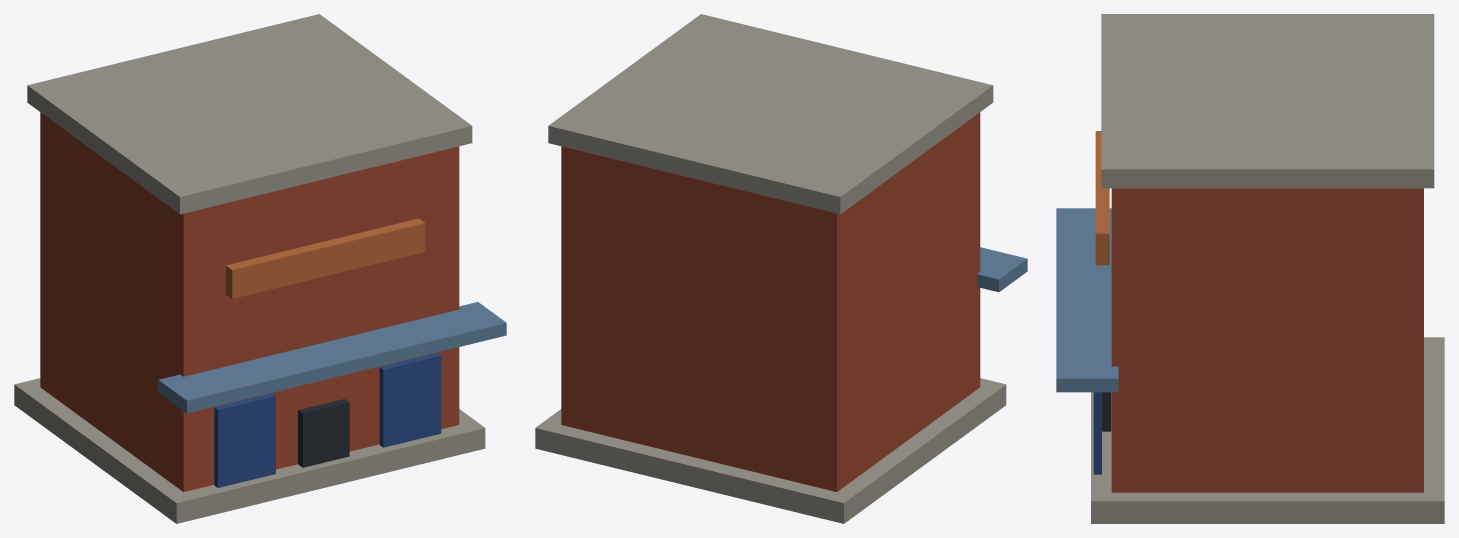
Rendered from bld_commercial_a04_lod1.glb.
3 renders of one model, left to right at view 1: azimuth 30°, elevation 25°; view 2: azimuth 150°, elevation 25°; view 3: azimuth 270°, elevation 25°, orthographic. The views are drawn at different scales.
Parts seen in each view (by area): view 1: body; view 2: body; view 3: body.
Boxes of the visible parts, x1=… form: body: x1=14, y1=14, x2=506, y2=523; body: x1=535, y1=14, x2=1027, y2=523; body: x1=1056, y1=14, x2=1444, y2=523.
Size of the model in its own units: 5.8 by 5.57 by 5.6.
